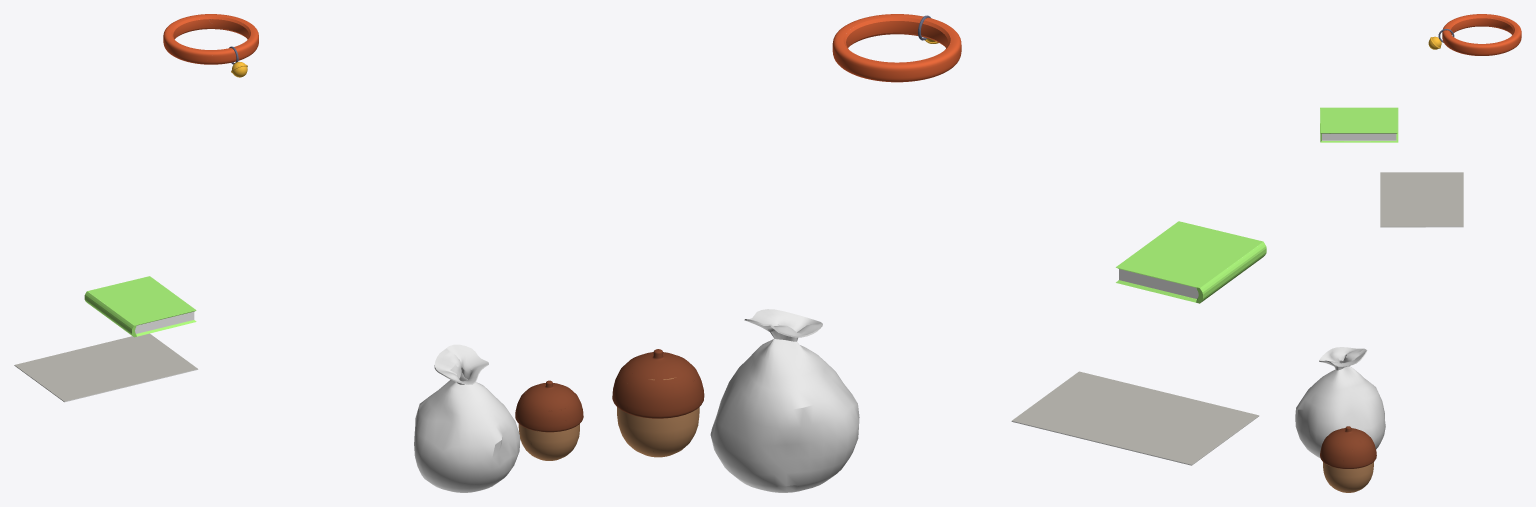
3 views of the same model, side by side, from view 1: azimuth 30°, elevation 25°; view 2: azimuth 150°, elevation 25°; view 3: azimuth 270°, elevation 25° (orthographic). The views are drawn at different scales.
Visible parts, largest first — view 1: 球体, 平面.002, 球体.002, 平面.011, 球体.001; view 2: 球体, 平面.002, 球体.002, 平面.011, 球体.001; view 3: 球体, 平面.002, 球体.002, 平面.011, 球体.001.
Boxes of the visible parts, left/top/right/bottom form: 球体: left=414, top=344, right=520, bottom=492; 平面.002: left=14, top=333, right=198, bottom=402; 球体.002: left=515, top=380, right=583, bottom=460; 平面.011: left=84, top=276, right=196, bottom=337; 球体.001: left=163, top=14, right=258, bottom=77; 球体: left=710, top=309, right=859, bottom=492; 平面.002: left=1011, top=371, right=1259, bottom=465; 球体.002: left=612, top=349, right=704, bottom=457; 平面.011: left=1116, top=221, right=1266, bottom=303; 球体.001: left=832, top=14, right=961, bottom=82; 球体: left=1295, top=347, right=1385, bottom=458; 平面.002: left=1380, top=172, right=1463, bottom=227; 球体.002: left=1320, top=426, right=1376, bottom=492; 平面.011: left=1320, top=107, right=1398, bottom=142; 球体.001: left=1428, top=14, right=1521, bottom=55.
Size of the model in its own units: 500 by 420 by 239.
